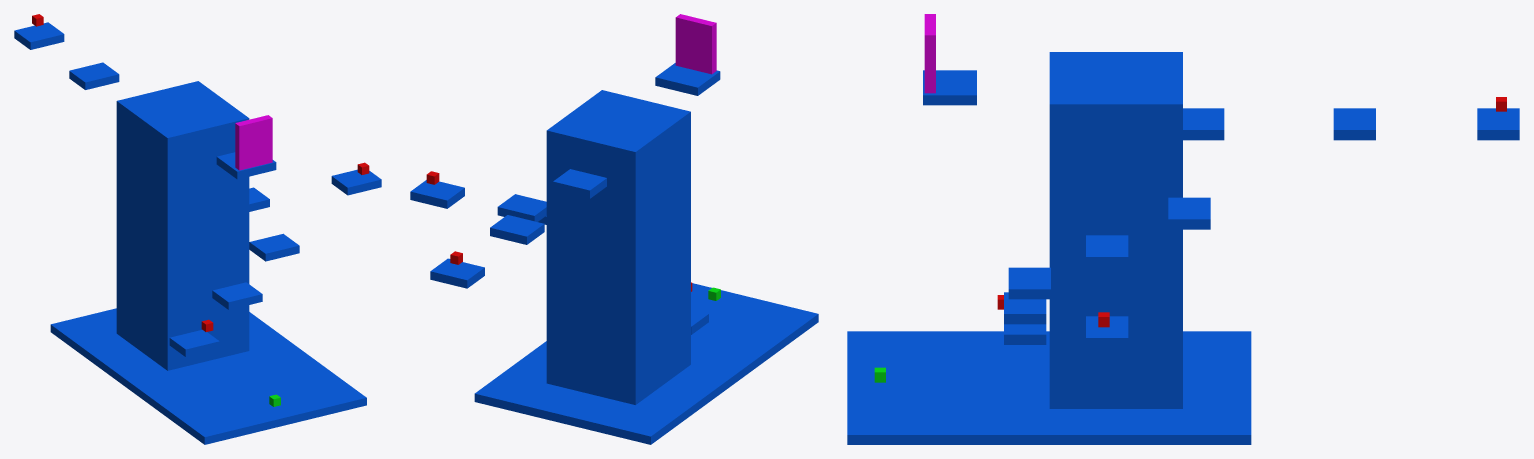
Rendered from level_three.fbx.
3 views of the same model, side by side, from view 1: azimuth 30°, elevation 25°; view 2: azimuth 150°, elevation 25°; view 3: azimuth 270°, elevation 25° (orthographic). The views are drawn at different scales.
Parts seen in each view (by area): view 1: Cube.001, Cube.002, ExitDoor, Cube.006, Cube.005, Cube.011, Cube.004, Cube.012, Cube.008, Cube.003, Cube.007; view 2: Cube.001, Cube.002, ExitDoor, Cube.003, Cube.011, Cube.010, Cube.012, Cube.008, Cube.009; view 3: Cube.001, Cube.002, Cube.003, Cube.009, Cube.011, Cube.006, Cube.012, Cube.010, Cube.007, Cube.008, Cube.005, ExitDoor (+1 smaller).
Part boxes in pixels (<box>): Cube.001: <box>116,81,249,370</box>; Cube.002: <box>50,308,366,444</box>; ExitDoor: <box>235,115,272,170</box>; Cube.006: <box>249,233,299,261</box>; Cube.005: <box>212,282,262,309</box>; Cube.011: <box>69,62,119,89</box>; Cube.004: <box>169,329,219,356</box>; Cube.012: <box>14,22,64,49</box>; Cube.008: <box>331,169,381,195</box>; Cube.003: <box>216,152,276,179</box>; Cube.007: <box>249,187,269,211</box>; Cube.001: <box>546,90,690,404</box>; Cube.002: <box>474,283,818,444</box>; ExitDoor: <box>675,14,716,74</box>; Cube.003: <box>655,63,720,95</box>; Cube.011: <box>490,215,544,244</box>; Cube.010: <box>553,169,606,198</box>; Cube.012: <box>430,258,484,288</box>; Cube.008: <box>410,180,464,208</box>; Cube.009: <box>497,194,546,221</box>; Cube.001: <box>1049,52,1182,408</box>; Cube.002: <box>847,331,1251,444</box>; Cube.003: <box>923,70,976,105</box>; Cube.009: <box>1168,197,1210,229</box>; Cube.011: <box>1333,108,1375,140</box>; Cube.006: <box>1008,267,1050,299</box>; Cube.012: <box>1477,108,1519,140</box>; Cube.010: <box>1183,108,1224,140</box>; Cube.007: <box>1086,235,1128,266</box>; Cube.008: <box>1086,316,1128,348</box>; Cube.005: <box>1004,292,1046,324</box>; ExitDoor: <box>924,14,935,93</box>.
Bounding box in the file's own units: 1815 × 1820 × 3010.
